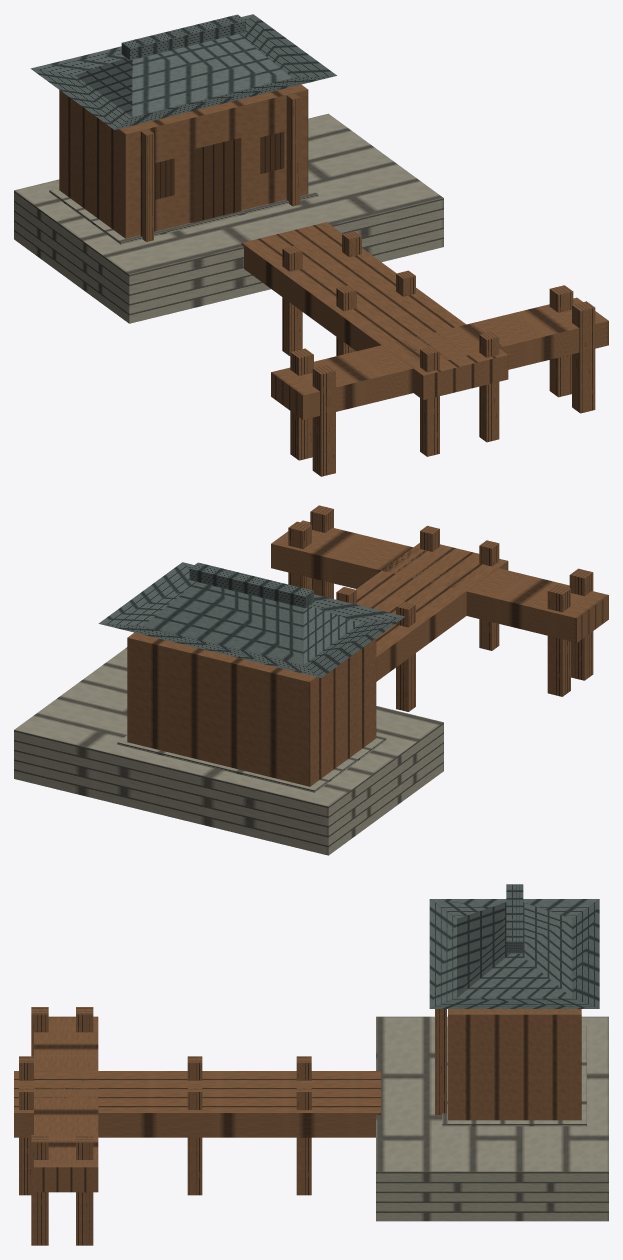
Rendered from port-lod1.glb.
The picture shows the model from 3 angles, top to bottom: view 1: azimuth 30°, elevation 25°; view 2: azimuth 150°, elevation 25°; view 3: azimuth 270°, elevation 25°; orthographic projection.
Size of the model in its own units: 0.74 by 0.551 by 1.2.
Materials: 1 (1 with a texture image).
